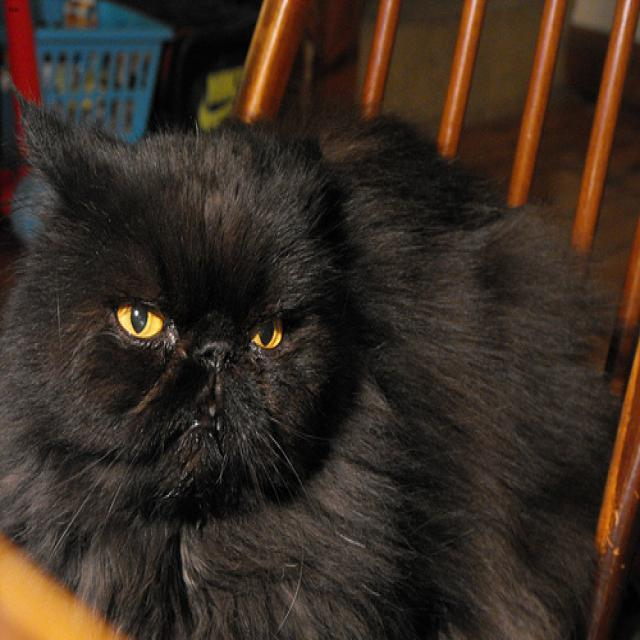Persian: (2, 80, 355, 500)
